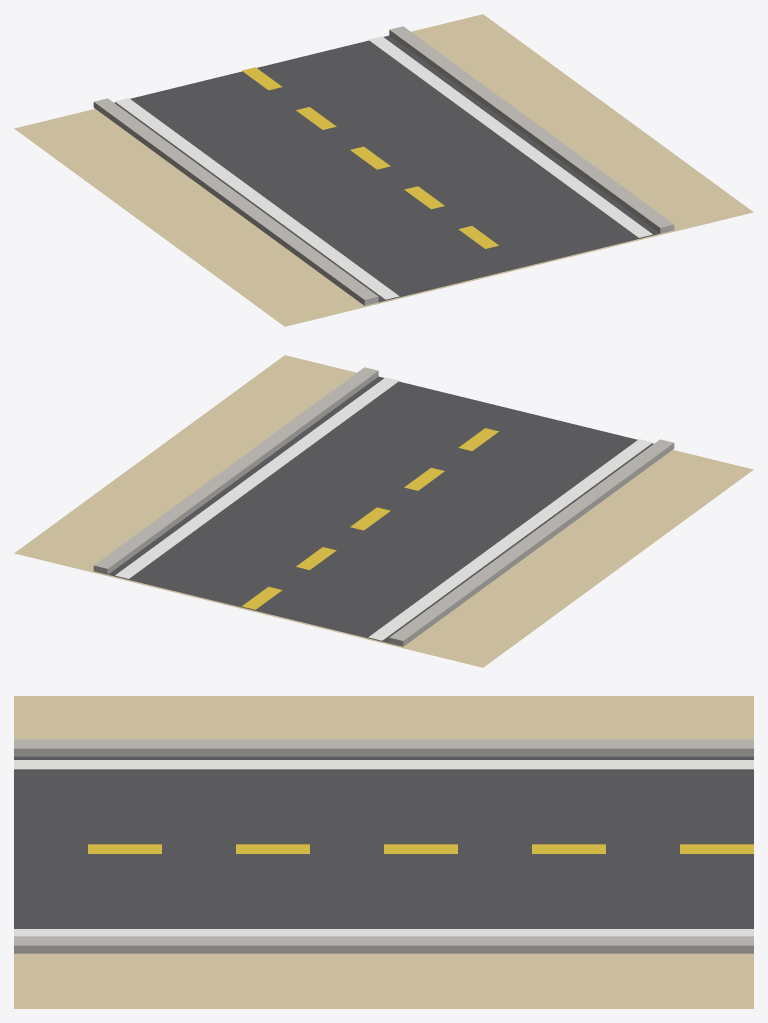
The model's file is comic-road-straight.glb.
The picture shows the model from 3 angles, top to bottom: view 1: azimuth 30°, elevation 25°; view 2: azimuth 150°, elevation 25°; view 3: azimuth 270°, elevation 25°; orthographic projection. The views are drawn at different scales.
Parts seen in each view (by area): view 1: road_straight; view 2: road_straight; view 3: road_straight.
Boxes of the visible parts, x1=… form: road_straight: x1=14, y1=14, x2=753, y2=326; road_straight: x1=14, y1=355, x2=753, y2=667; road_straight: x1=14, y1=696, x2=753, y2=1008.
Size of the model in its own units: 10 by 0.15 by 10.
